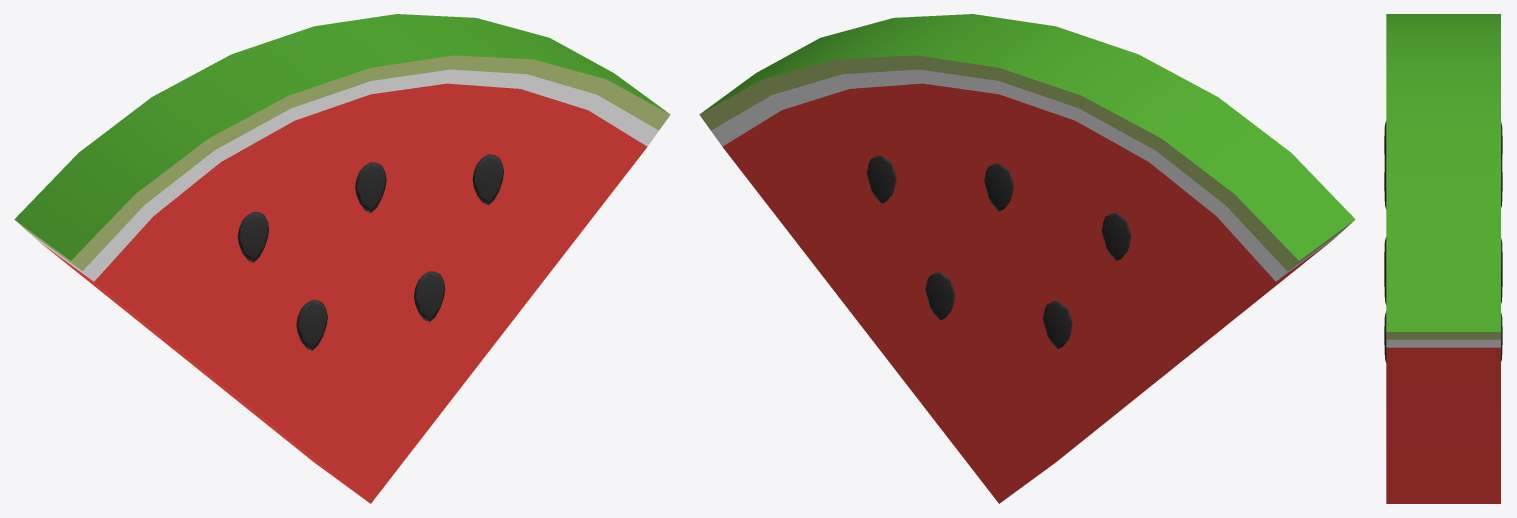
File: Watermelon.fbx
The picture shows the model from 3 angles, left to right: view 1: azimuth 30°, elevation 25°; view 2: azimuth 150°, elevation 25°; view 3: azimuth 270°, elevation 25°; orthographic projection.
Visible parts, largest first — view 1: Watermelon; view 2: Watermelon; view 3: Watermelon.
Part boxes in pixels (x1,y1,x2,y2): Watermelon: [14, 14, 670, 503]; Watermelon: [699, 14, 1355, 503]; Watermelon: [1384, 14, 1502, 503].
Size of the model in its own units: 2.3 by 1.6 by 0.3891.
